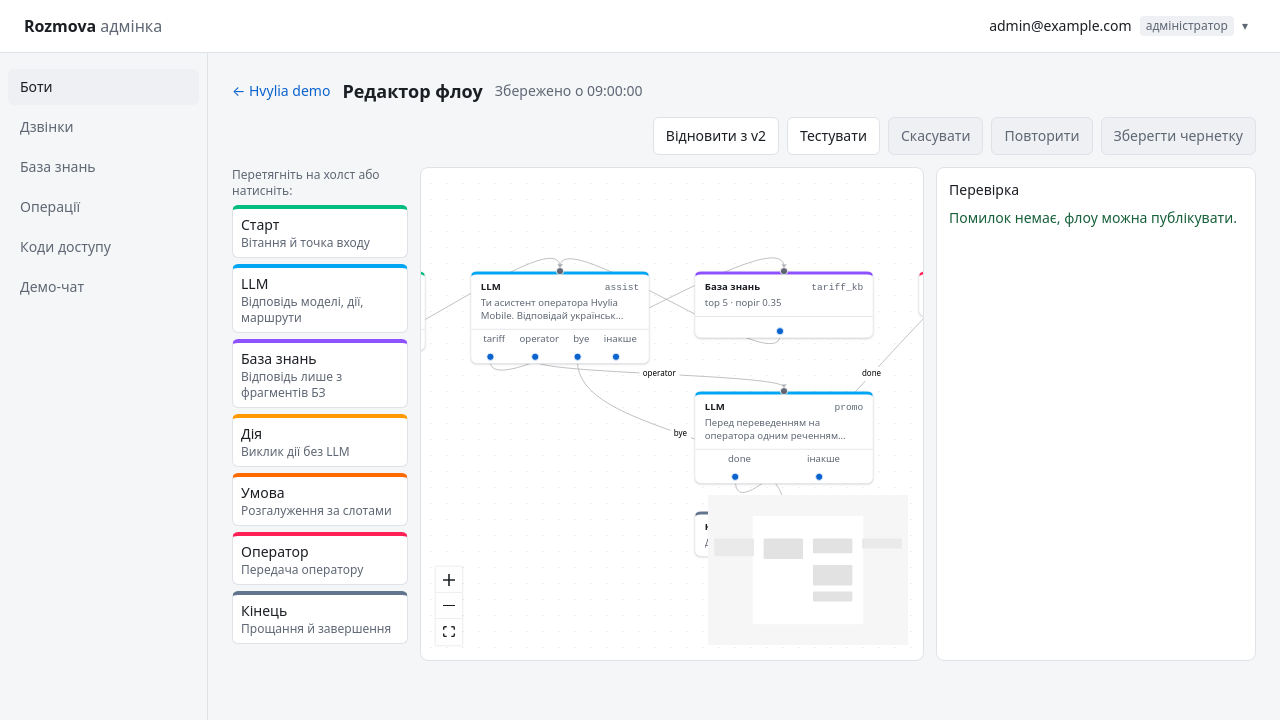
Test case: restoring from the live version replaces the canvas in one undoable step
Expected: the element with test id "node-promo" is shown, [694, 391, 874, 484]
Click the button "Відновити з v2".
click(716, 136)  # box [653, 117, 779, 155]
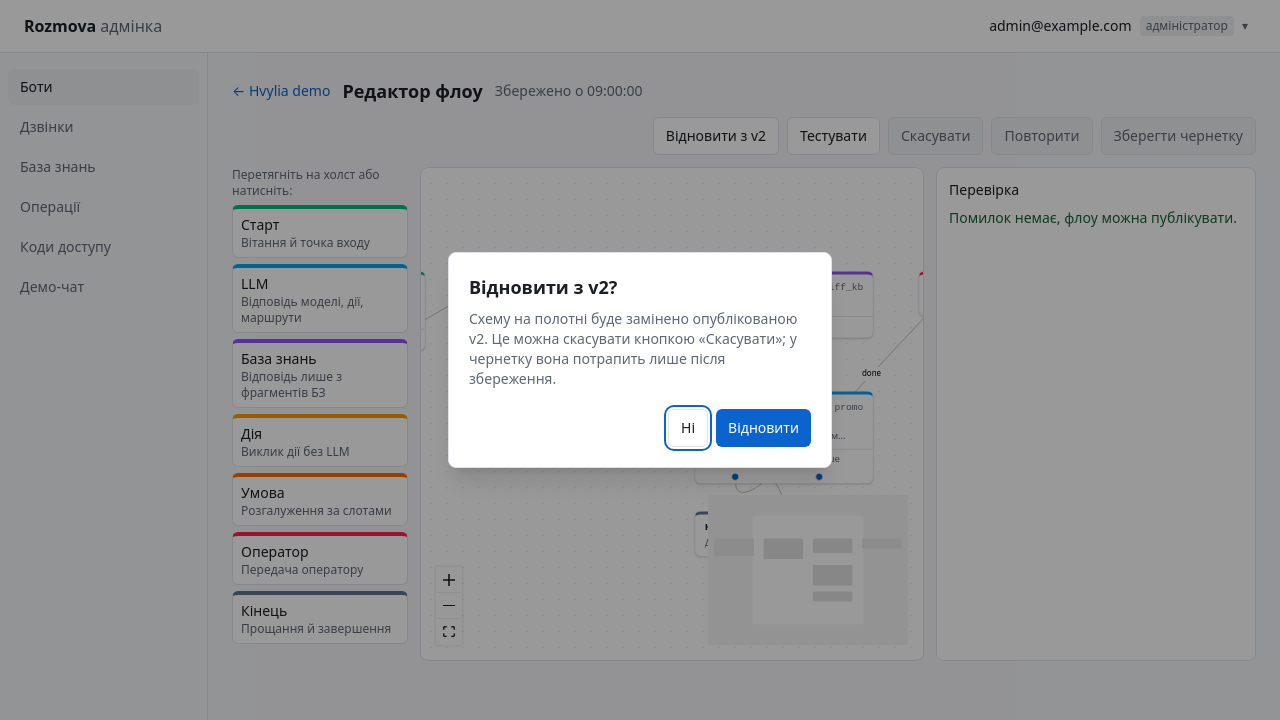
Expected: the dialog shows "Схему на полотні буде замінено опублікованою v2", [448, 252, 832, 468]
Click the button "Відновити".
click(764, 428)  # box [716, 409, 811, 447]
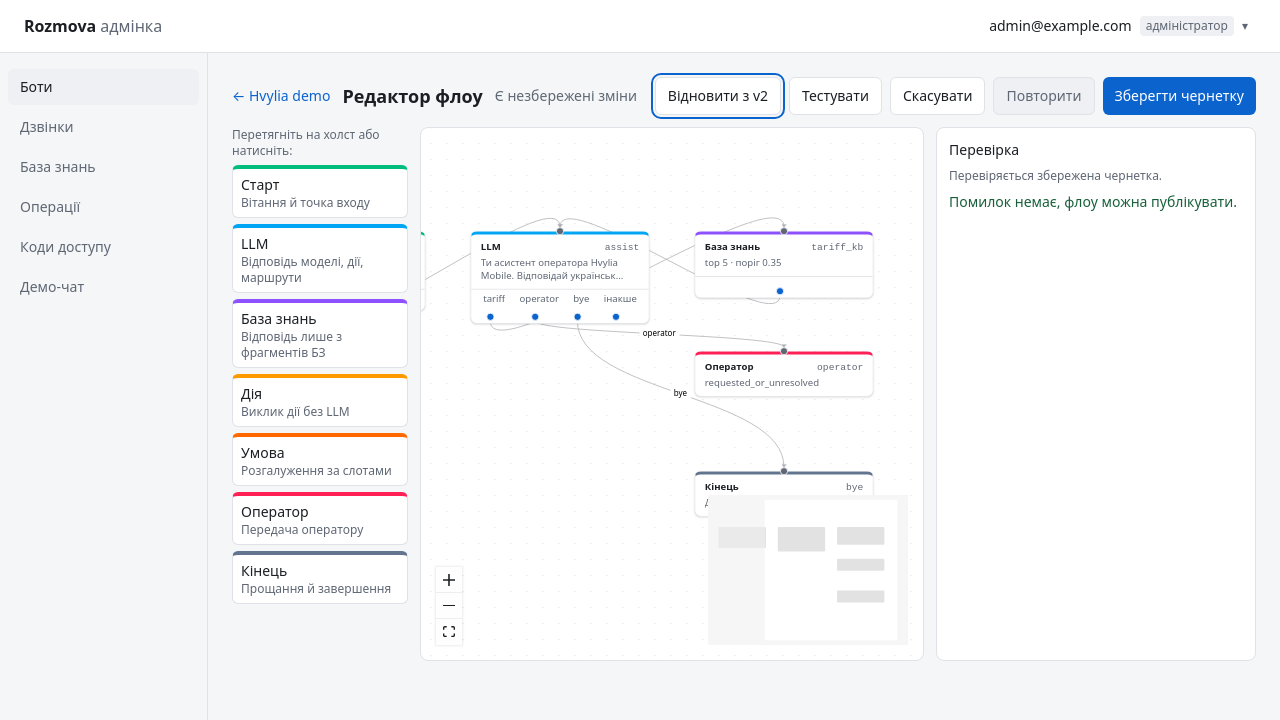
Expected: the element with test id "node-promo" is gone
Expected: the message reads "Є незбережені зміни", [495, 86, 637, 105]
Click the button "Скасувати".
click(938, 96)  # box [890, 77, 986, 115]
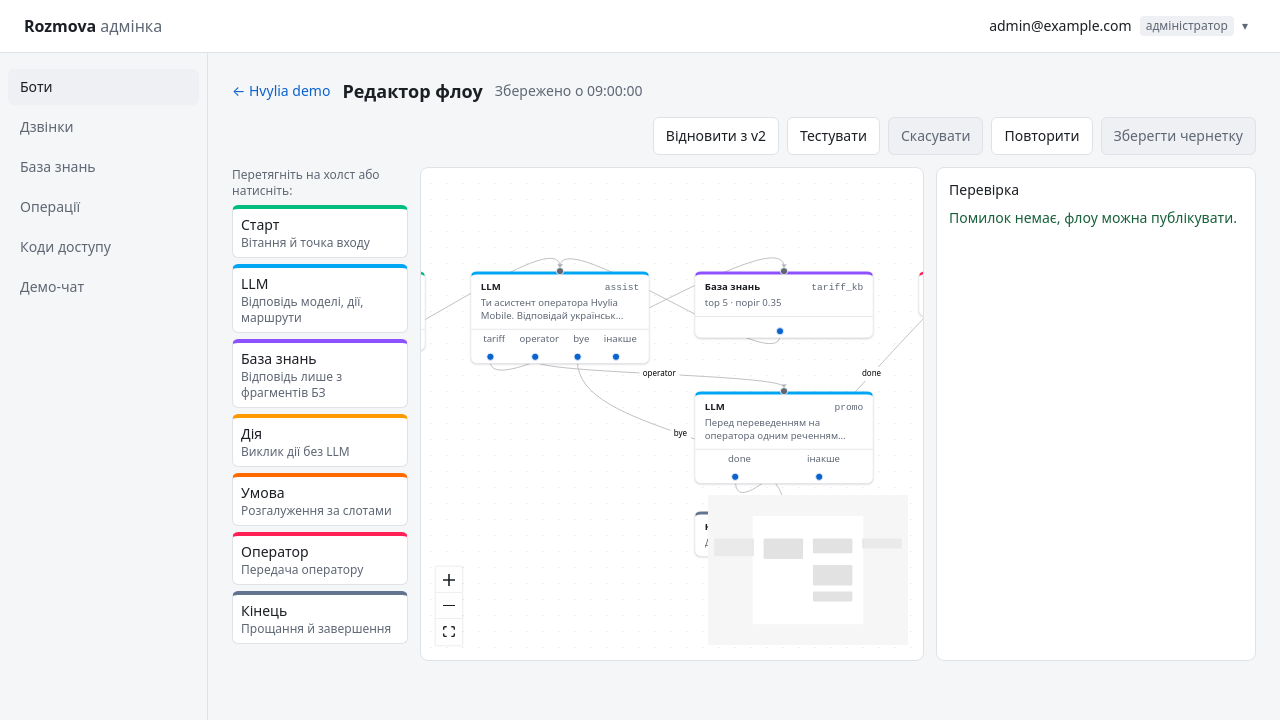
Expected: the element with test id "node-promo" is shown, [694, 391, 874, 484]
Expected: the message no longer shows "незбережені", [495, 81, 643, 101]
